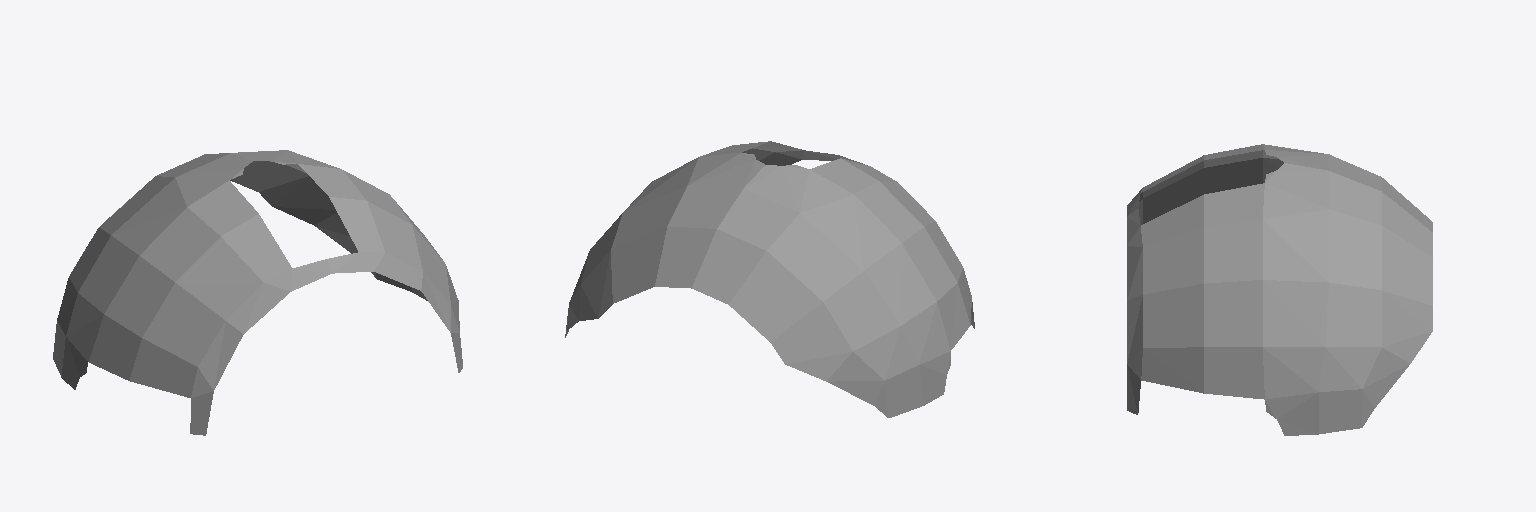
The model's file is HandyFrontDecal.obj.
3 renders of one model, left to right at view 1: azimuth 30°, elevation 25°; view 2: azimuth 150°, elevation 25°; view 3: azimuth 270°, elevation 25°, orthographic.
Visible parts, largest first — view 1: HandyFrontArmor:1_HandyFrontArmor:0.001; view 2: HandyFrontArmor:1_HandyFrontArmor:0.001; view 3: HandyFrontArmor:1_HandyFrontArmor:0.001.
Part boxes in pixels (x1,y1,x2,y2): HandyFrontArmor:1_HandyFrontArmor:0.001: (53, 150, 462, 435); HandyFrontArmor:1_HandyFrontArmor:0.001: (565, 141, 974, 417); HandyFrontArmor:1_HandyFrontArmor:0.001: (1127, 144, 1432, 435).
Size of the model in its own units: 3.83 by 1.91 by 2.84.